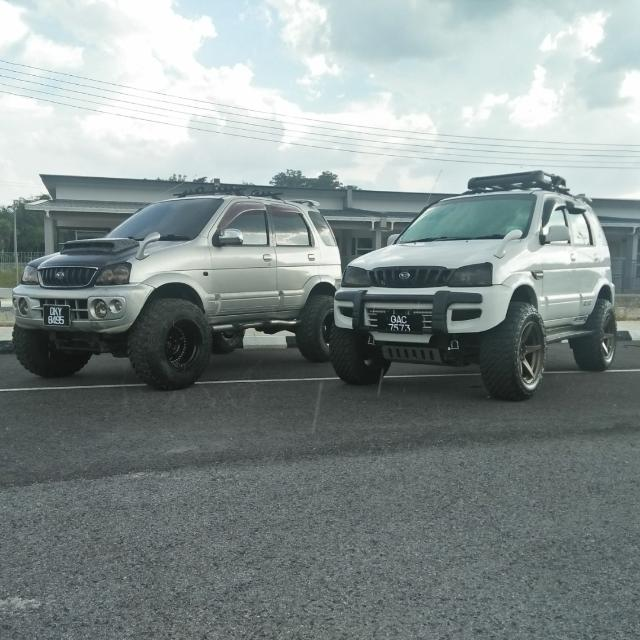License_Plate: (379, 314, 423, 334), (45, 305, 72, 328)
car: (6, 195, 376, 387), (326, 170, 620, 407)
